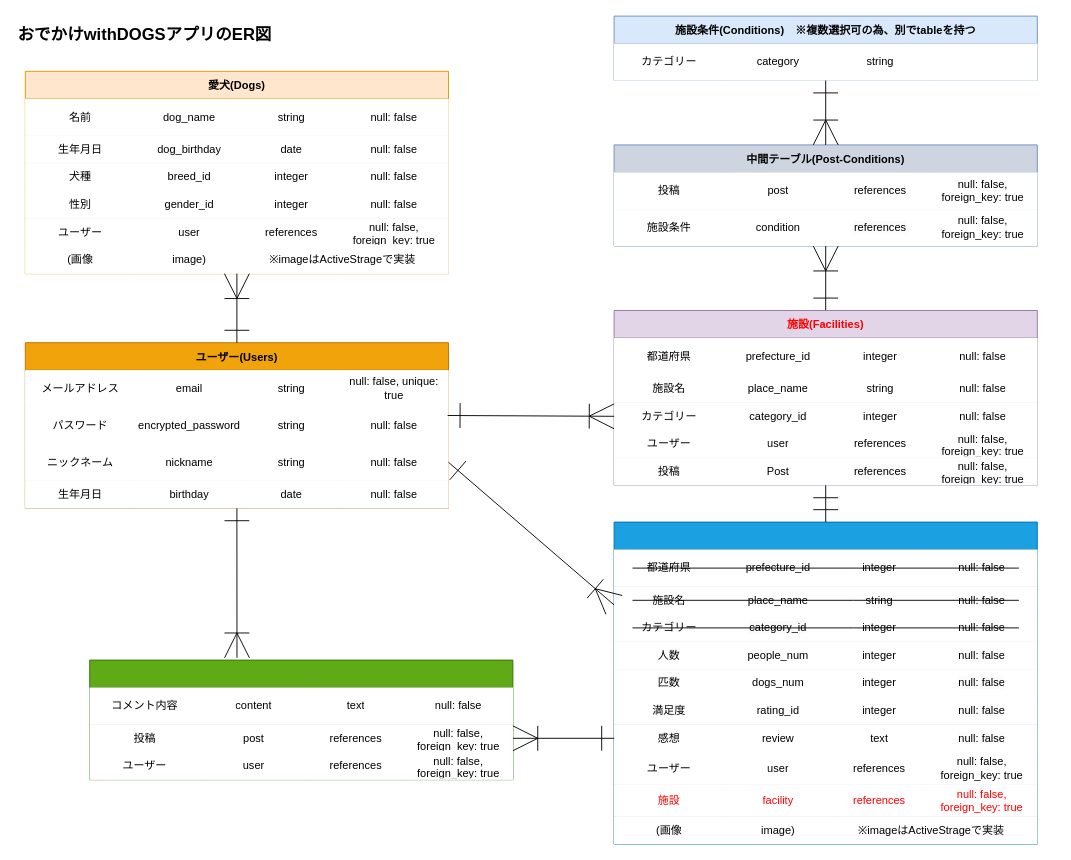
The diagram is 1071 pixels wide and 860 high, and some of its shapes have lost their labels. Each missing label, with the box of its shape:
コメント(Comments): (89, 659, 513, 780)
投稿(Posts): (613, 521, 1037, 844)
